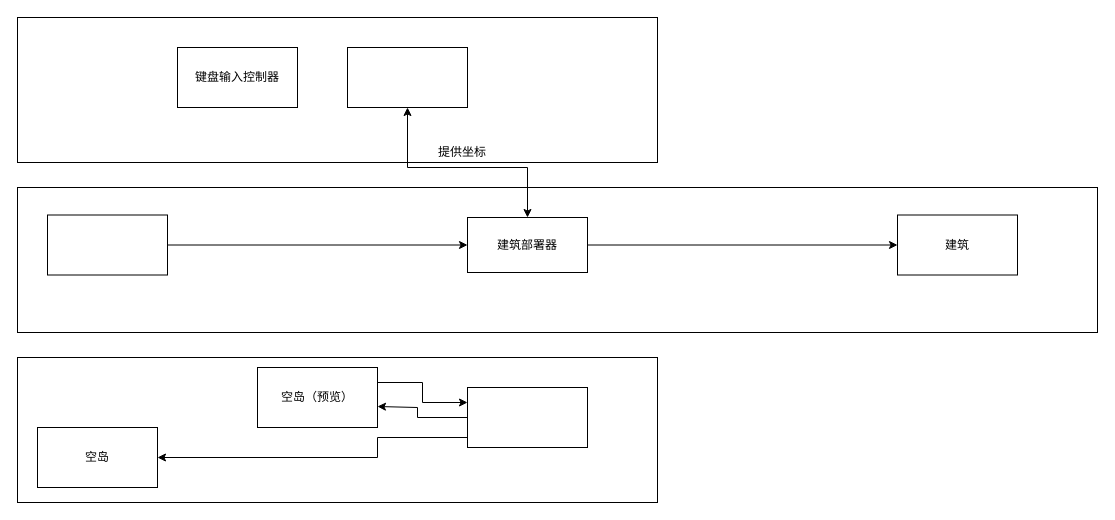
Image size: 1115x520. Some labels were removed from this diagram. Here are the shapes that lost their labels. From the top down, the centre of each, then its label:
the point at 407,77: 鼠标控制器
the point at 107,244: 建筑ui
the point at 527,417: 空岛部署ui
